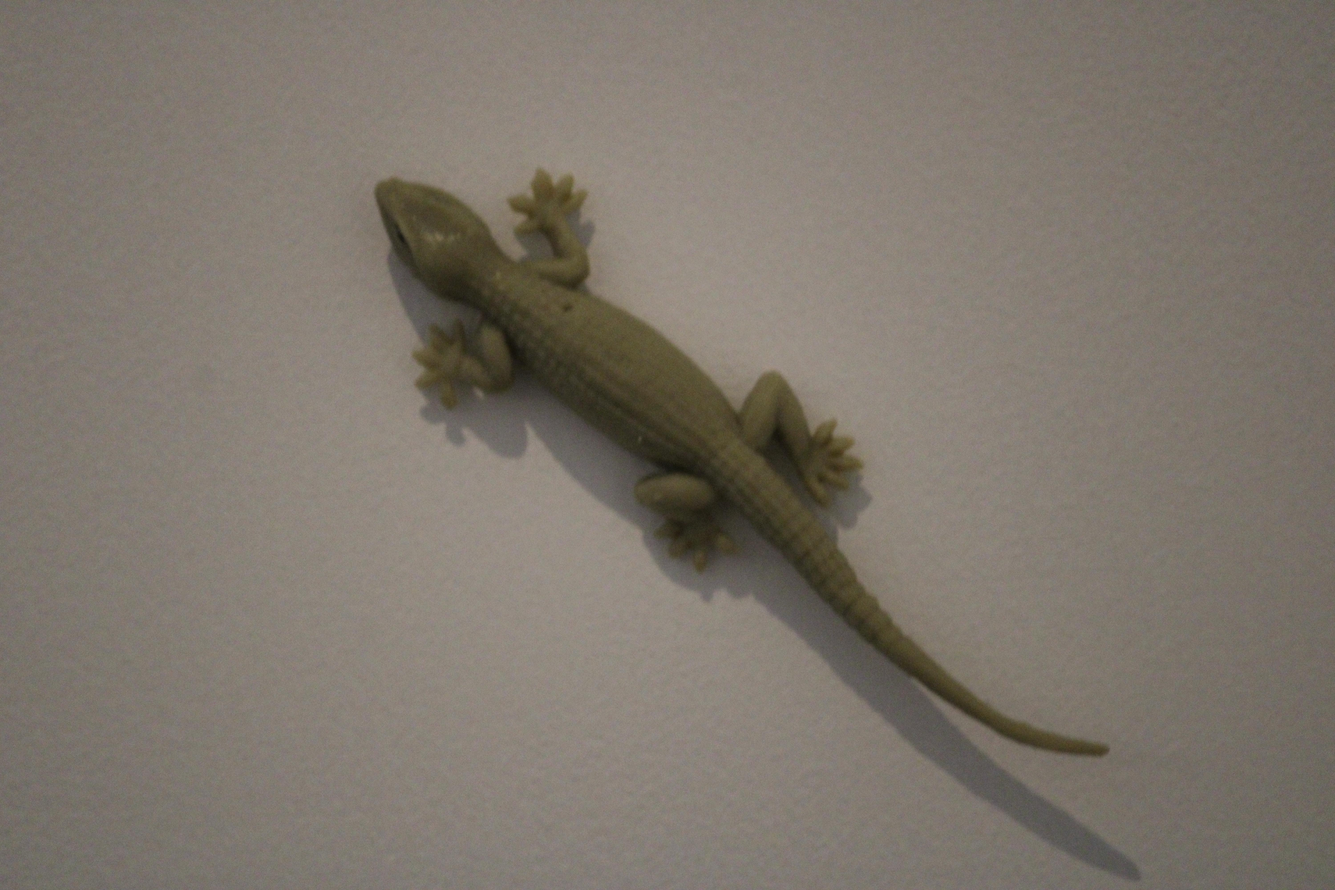lizard: (365, 152, 1111, 769)
